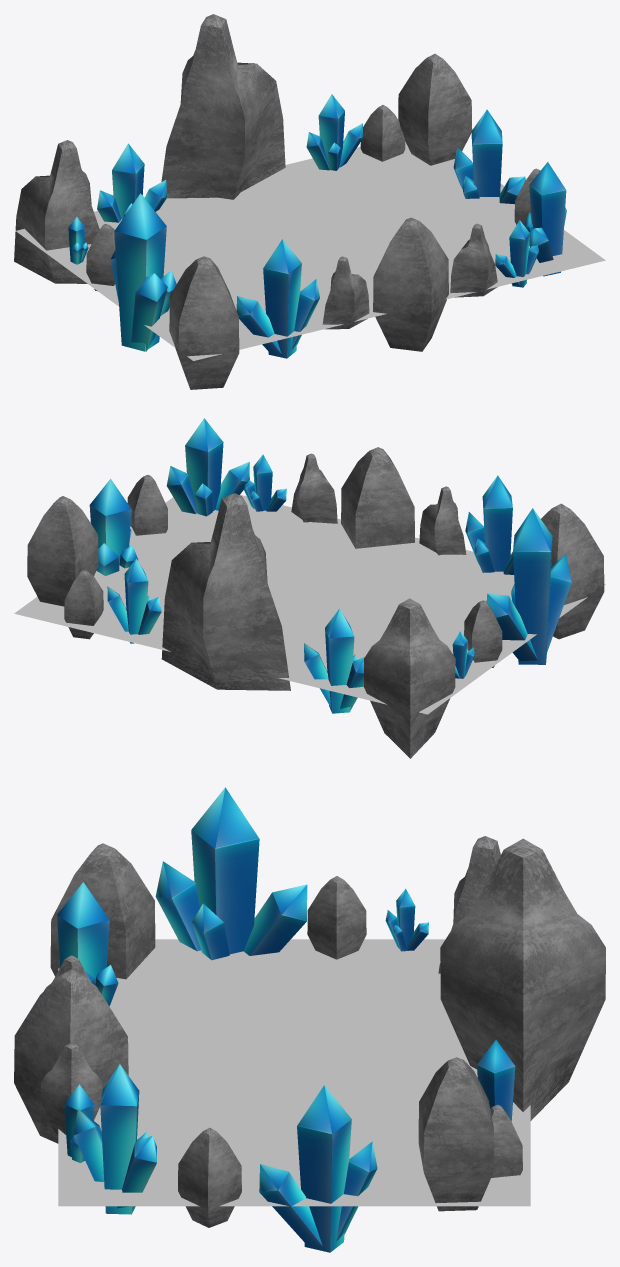
Rendered from darkness.fbx.
3 views of the same model, one above another, from view 1: azimuth 30°, elevation 25°; view 2: azimuth 150°, elevation 25°; view 3: azimuth 270°, elevation 25° (orthographic). The views are drawn at different scales.
Parts seen in each view (by area): view 1: darkness_stage, stone4, stone9, stone1, stone3, crystal6, stone5, crystal5, crystal3, crystal8, crystal, crystal2 (+7 smaller); view 2: darkness_stage, stone4, stone3, crystal6, stone9, stone5, stone1, crystal8, crystal, crystal5, crystal3, crystal2 (+7 smaller); view 3: darkness_stage, stone4, crystal6, crystal3, stone9, stone5, stone1, crystal8, stone7, crystal5, stone2, stone8 (+5 smaller).
Part boxes in pixels (<box>): darkness_stage: <box>16,141,605,360</box>; stone4: <box>161,14,285,199</box>; stone9: <box>373,217,448,351</box>; stone1: <box>169,256,239,389</box>; stone3: <box>14,140,99,283</box>; crystal6: <box>110,193,176,351</box>; stone5: <box>398,53,472,165</box>; crystal5: <box>236,239,319,358</box>; crystal3: <box>453,109,525,204</box>; crystal8: <box>524,162,566,276</box>; crystal: <box>97,143,166,222</box>; crystal2: <box>306,94,363,170</box>; darkness_stage: <box>14,495,605,714</box>; stone4: <box>161,493,290,690</box>; stone3: <box>364,598,455,758</box>; crystal6: <box>486,508,571,664</box>; stone9: <box>341,447,414,548</box>; stone5: <box>27,496,98,606</box>; stone1: <box>541,503,604,639</box>; crystal8: <box>166,418,249,516</box>; crystal: <box>304,608,364,713</box>; crystal5: <box>465,475,513,574</box>; crystal3: <box>89,478,138,575</box>; crystal2: <box>107,558,161,643</box>; darkness_stage: <box>58,939,530,1206</box>; stone4: <box>440,838,605,1120</box>; crystal6: <box>155,787,307,960</box>; crystal3: <box>259,1085,377,1252</box>; stone9: <box>14,969,128,1143</box>; stone5: <box>418,1057,494,1211</box>; stone1: <box>50,843,155,979</box>; crystal8: <box>73,1064,156,1214</box>; stone7: <box>178,1127,241,1227</box>; crystal5: <box>57,882,118,1005</box>; stone2: <box>307,876,366,959</box>; stone8: <box>41,1042,102,1134</box>.
Size of the model in its own units: 5888 by 2742 by 5254.
